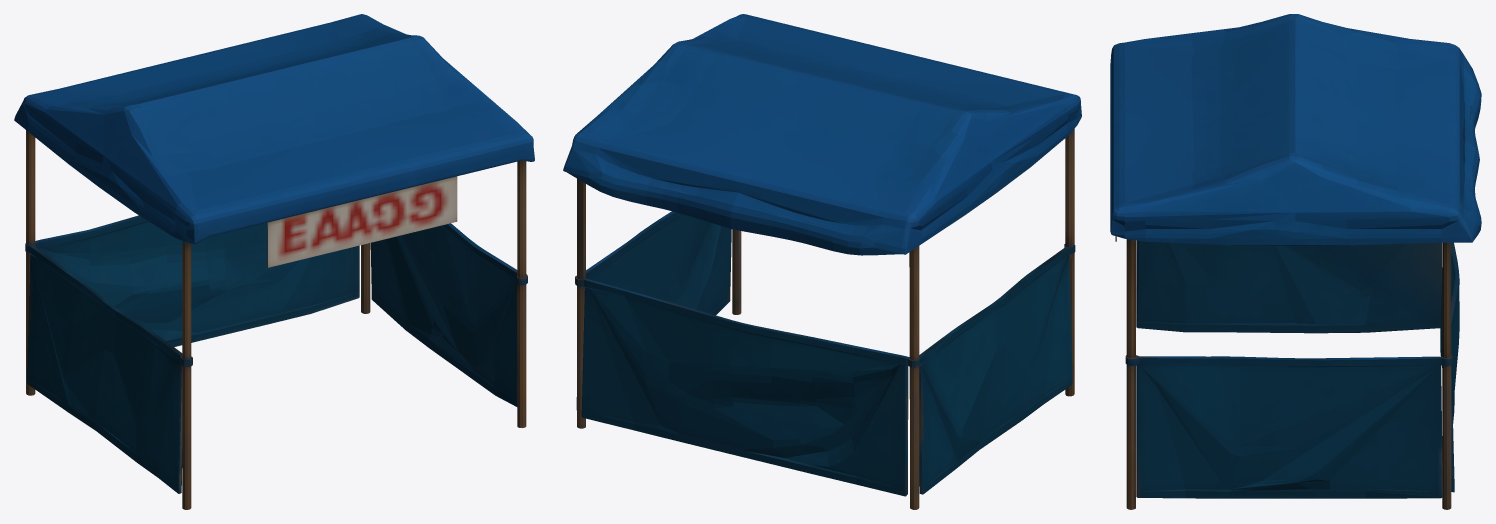
3 renders of one model, left to right at view 1: azimuth 30°, elevation 25°; view 2: azimuth 150°, elevation 25°; view 3: azimuth 270°, elevation 25°, orthographic.
Parts seen in each view (by area): view 1: texture_pbr_v128; view 2: texture_pbr_v128; view 3: texture_pbr_v128.
Part boxes in pixels (x1,y1,x2,y2): texture_pbr_v128: [14, 14, 534, 509]; texture_pbr_v128: [563, 14, 1081, 509]; texture_pbr_v128: [1110, 14, 1481, 509].
Size of the model in its own units: 0.7639 by 0.7008 by 0.6931.
Materials: 1 (1 with a texture image).
